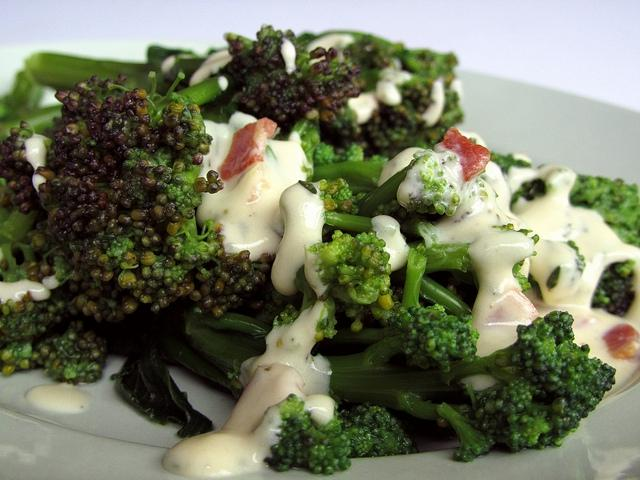broccoli: (35, 71, 272, 322), (324, 304, 616, 462), (320, 35, 464, 161), (220, 23, 362, 128), (0, 288, 110, 386), (568, 174, 640, 250), (339, 406, 417, 458), (321, 179, 368, 215)
